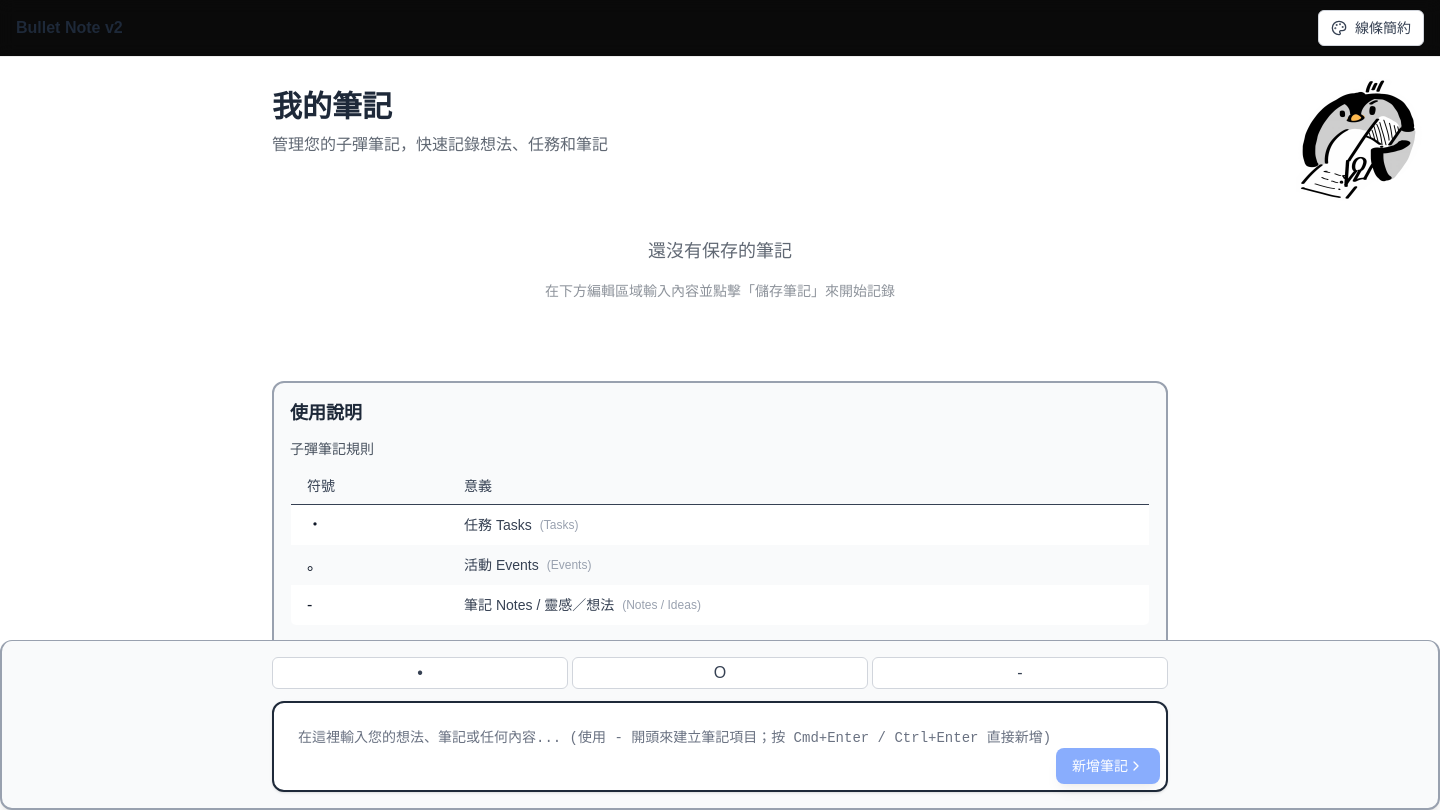
Scenario: Dash Button Scenario - 點擊「-」按鈕後輸入文字 › should enable confirm button after clicking dash button and typing text
The width and height of the screenshot is (1440, 810).
Check: the button "新增筆記" is disabled, box [1056,748,1160,784]
Step 1. Click the button "-" → (1020, 673), box [872,657,1168,689]
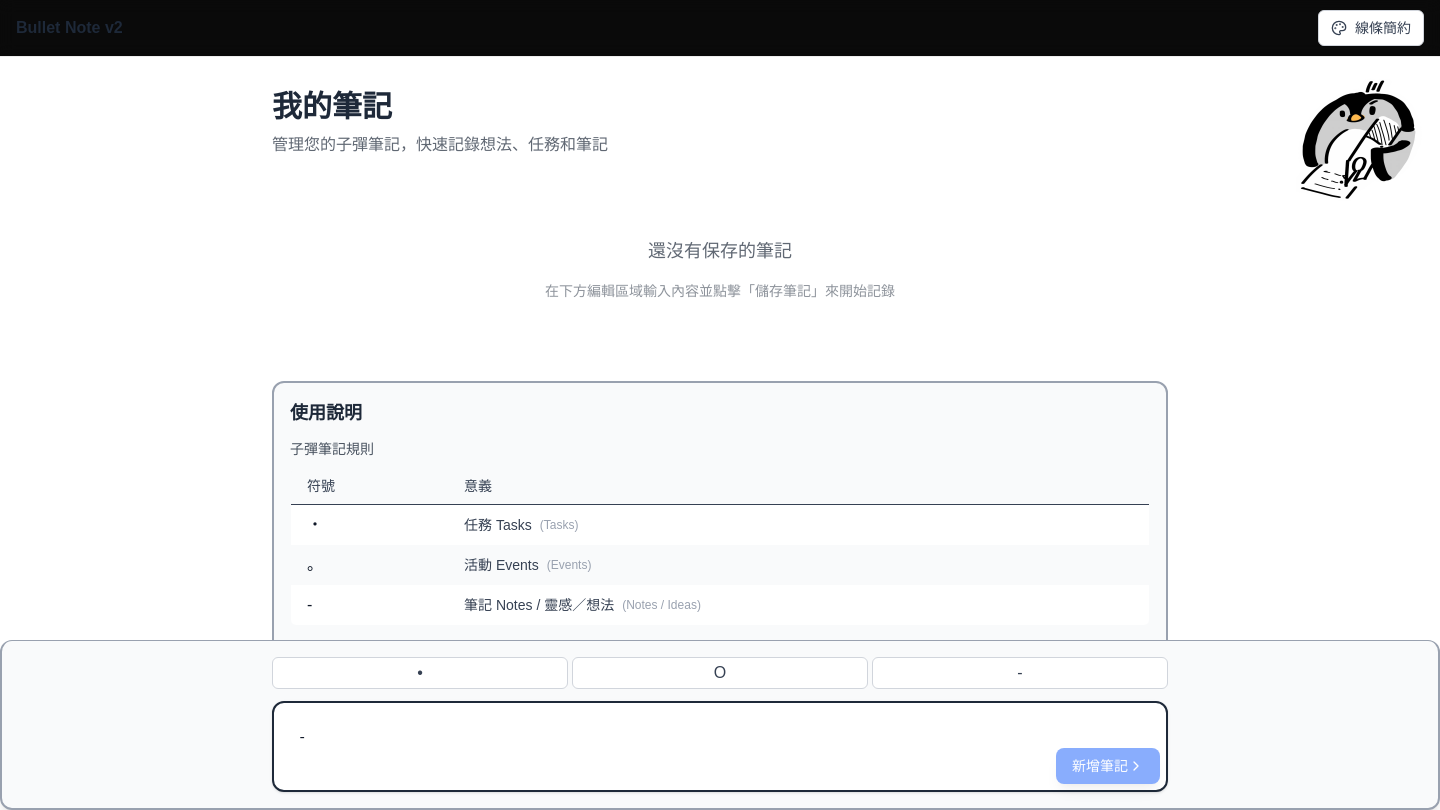
Step 2. Type "我的筆記內容" into the text box with placeholder "在這裡輸入您的想法" → (720, 743), box [274,703,1166,783]
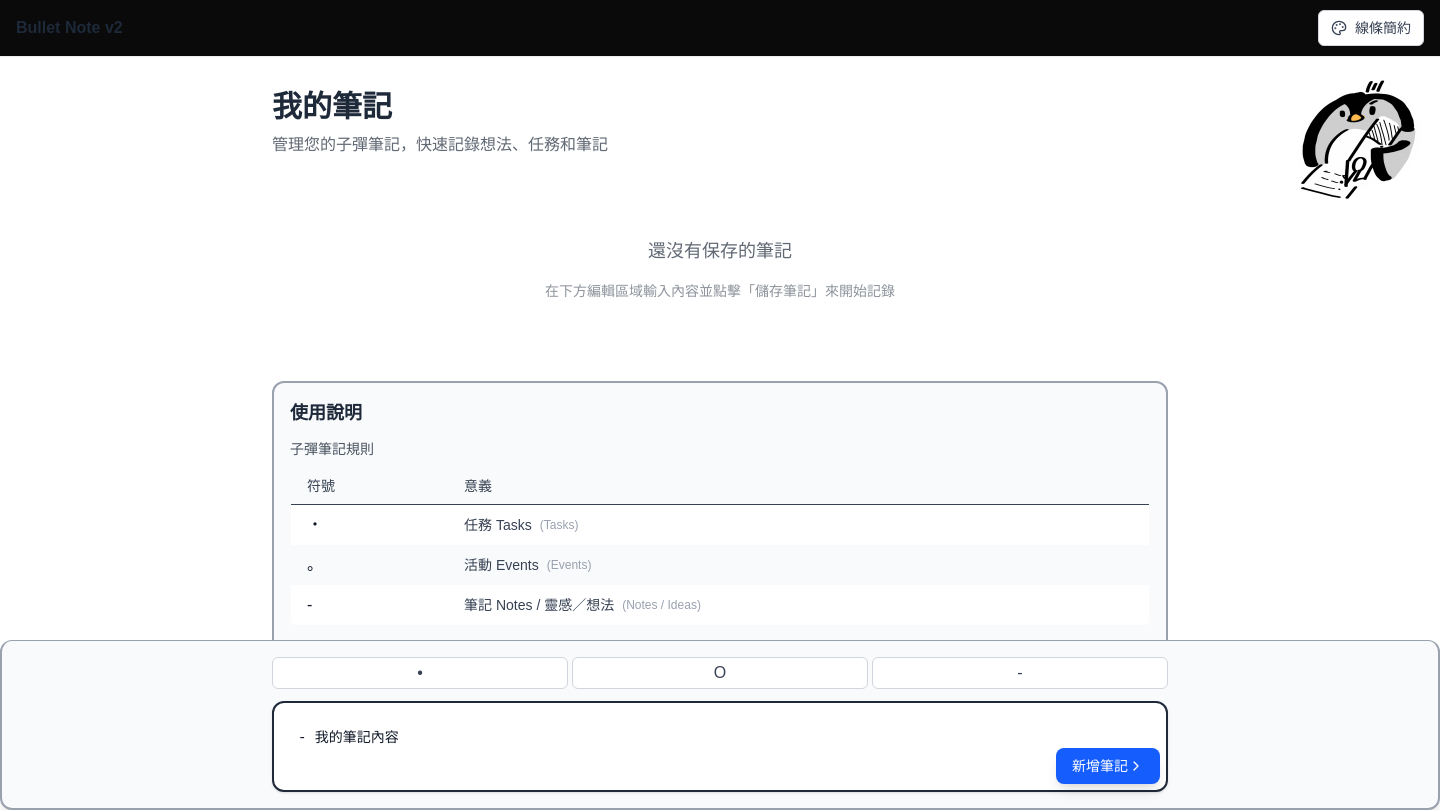
Check: the button "新增筆記" is enabled
Step 3. Click the button "新增筆記" → (1108, 766), box [1056,748,1160,784]
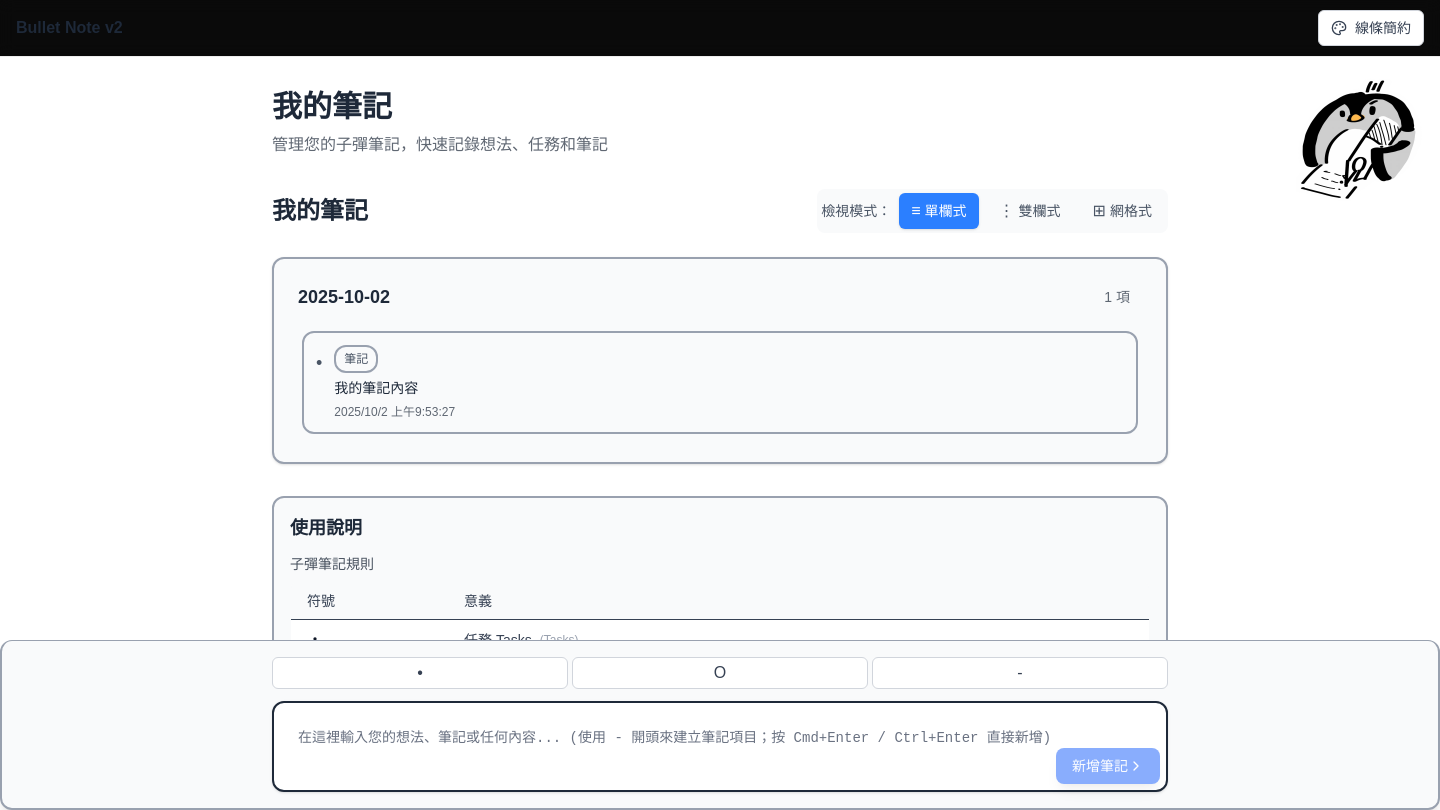
Check: the heading "我的筆記" in the row of "檢視模式：" is shown, box [272,195,368,227]
Check: the text "我的筆記內容" is shown, box [334,380,418,396]
Check: the text box with placeholder "在這裡輸入您的想法" is empty, box [274,703,1166,783]
